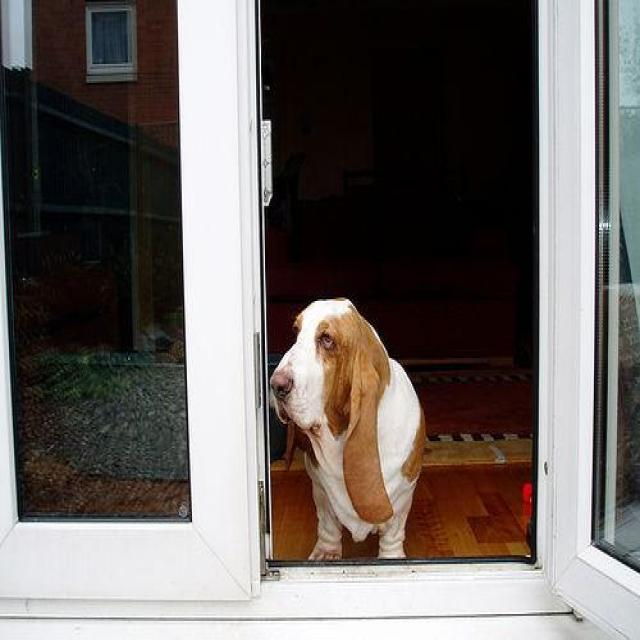basset: (272, 299, 422, 566)
